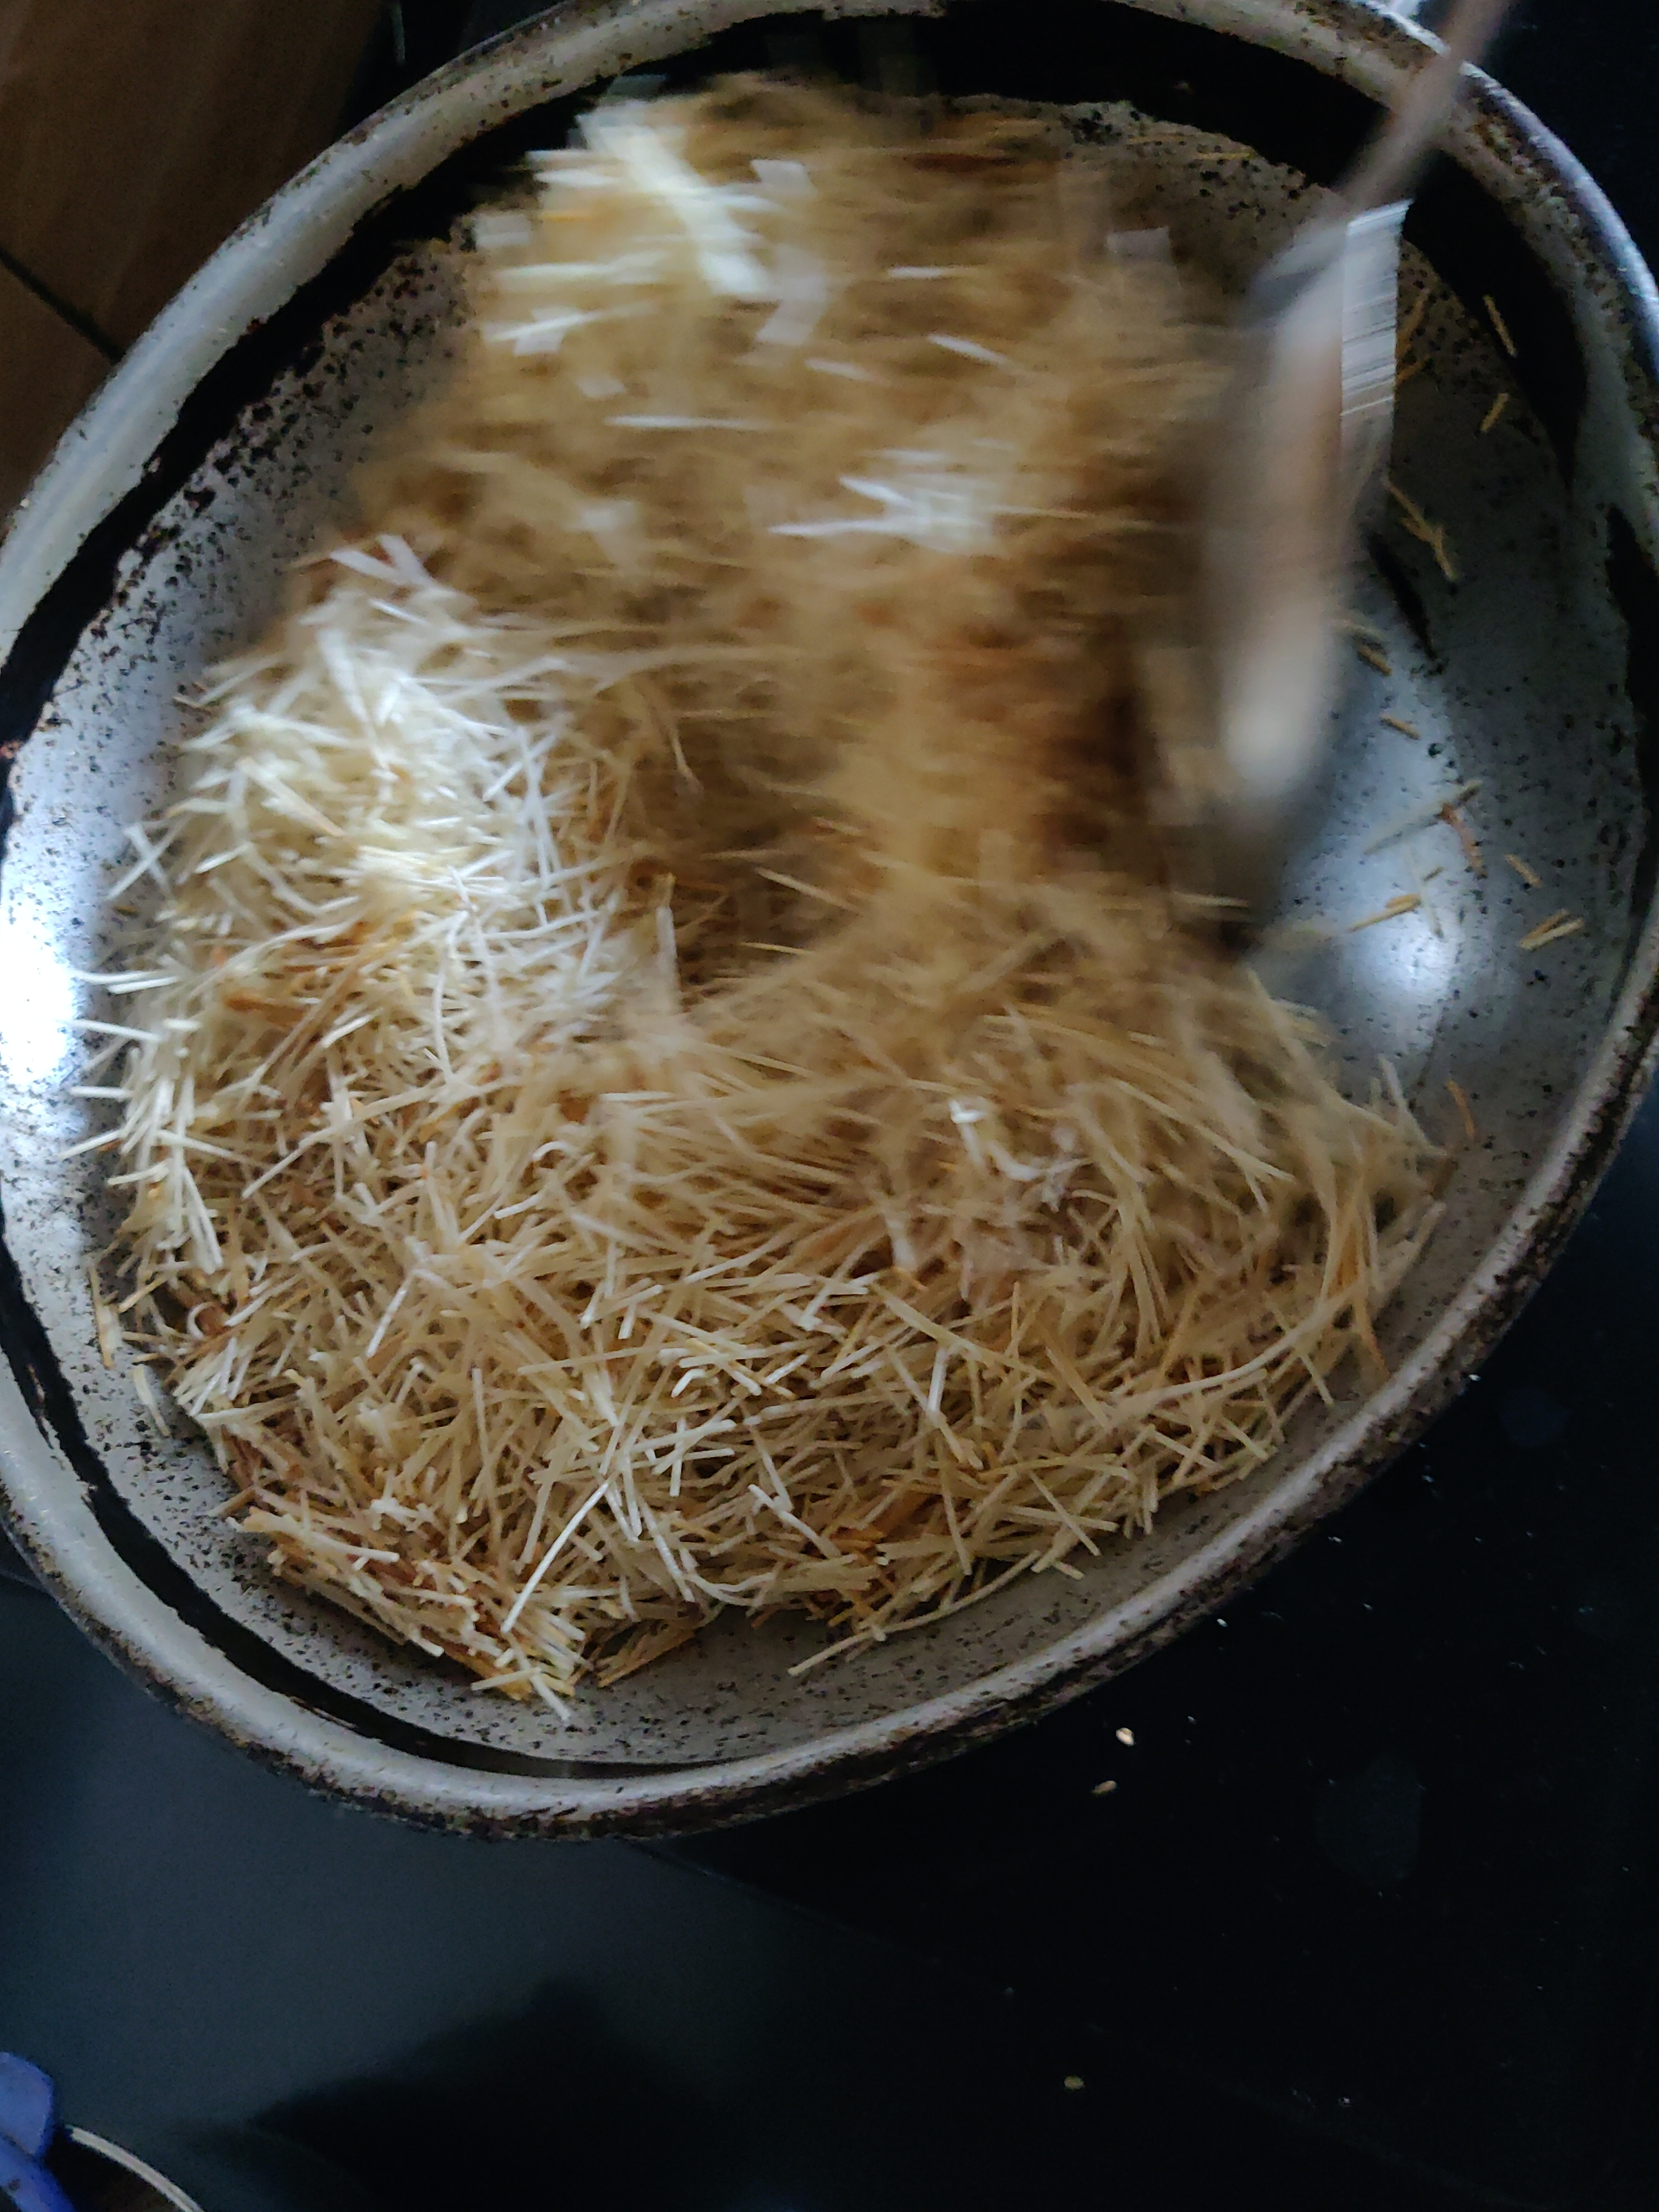food: (38, 61, 1605, 1735)
